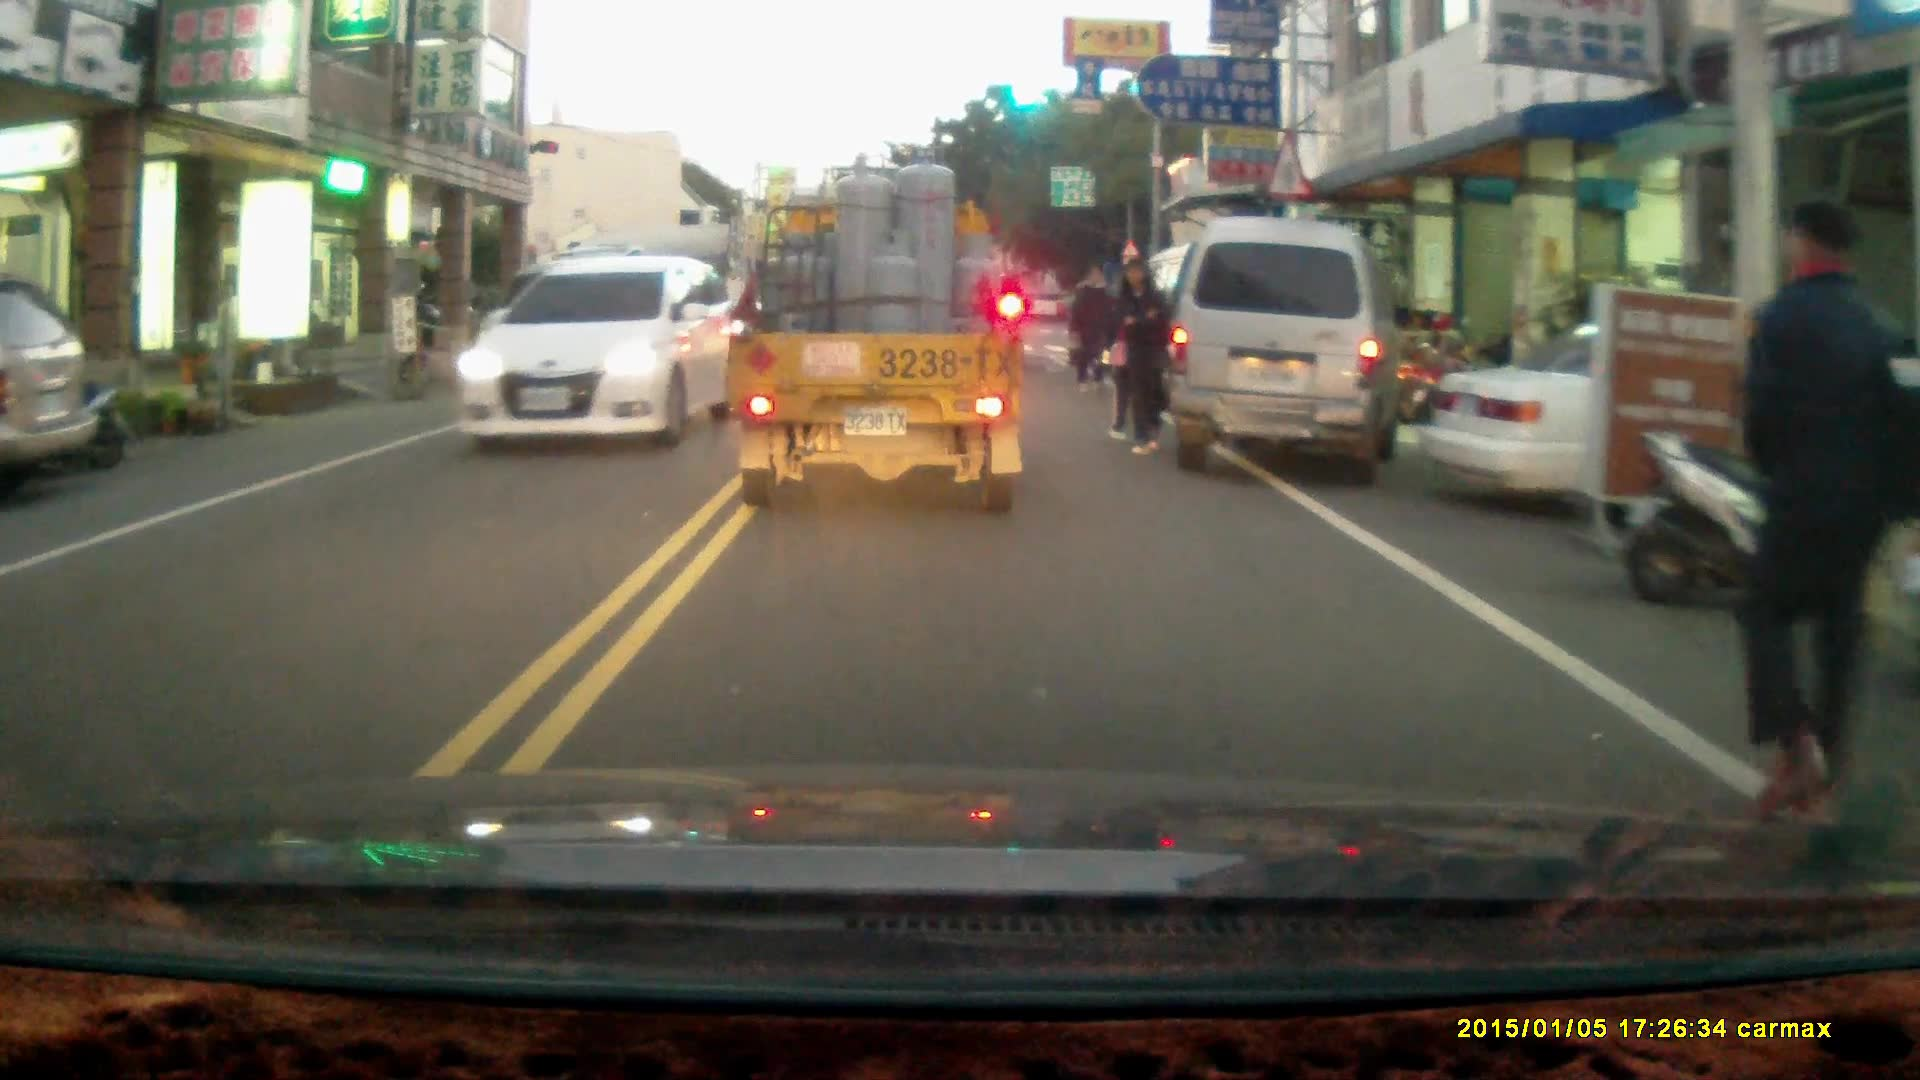pedestrian: (1725, 201, 1920, 829), (1110, 255, 1167, 455), (1068, 258, 1117, 392)
vehicle: (723, 152, 1026, 511), (1413, 315, 1896, 534), (1165, 210, 1408, 477), (458, 252, 728, 442), (1, 274, 103, 476)
